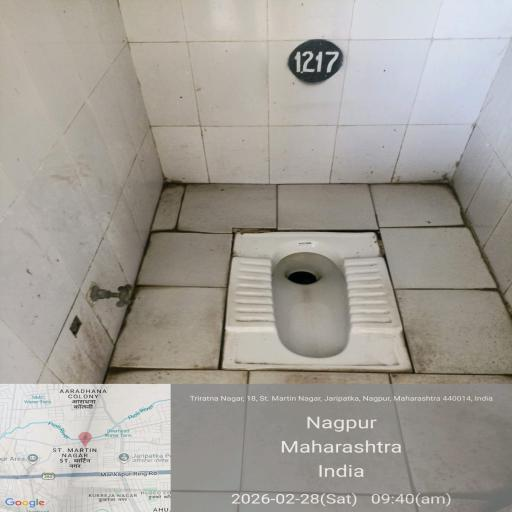clean_floor: (53, 6, 415, 130)
clean_indian: (190, 196, 422, 388)
partial_dirty_floor: (91, 172, 512, 512)
